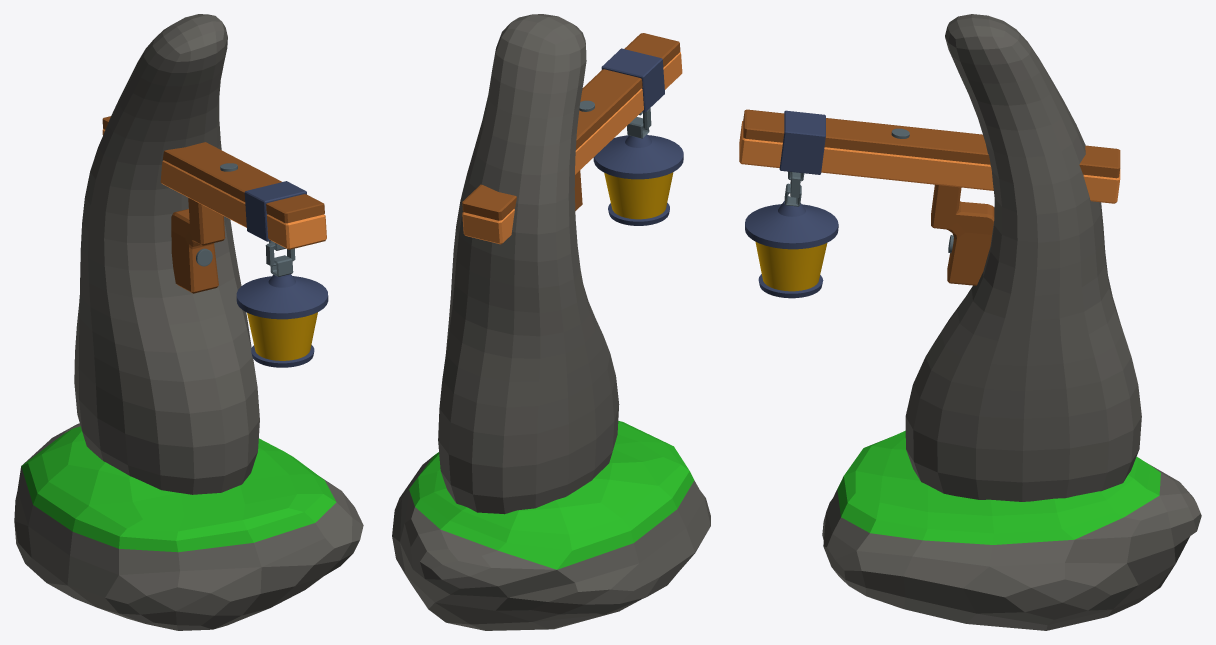
The model's file is StoneLamp3.fbx.
The picture shows the model from 3 angles, left to right: view 1: azimuth 30°, elevation 25°; view 2: azimuth 150°, elevation 25°; view 3: azimuth 270°, elevation 25°; orthographic projection. The views are drawn at different scales.
Parts seen in each view (by area): view 1: Cube.008, Cube.009, Cylinder.002, Cube.002, Cube.001, Cube.003, Cube.004; view 2: Cube.008, Cube.009, Cylinder.002, Cube.002, Cube.001, Cube.004; view 3: Cube.008, Cube.009, Cube.002, Cylinder.002, Cube.001, Cube.003, Cube.004.
Part boxes in pixels (box(x1,y1,x2,y2)): Cube.008: box(74, 14, 259, 494); Cube.009: box(14, 423, 363, 630); Cylinder.002: box(236, 274, 328, 367); Cube.002: box(102, 116, 324, 223); Cube.001: box(102, 129, 326, 249); Cube.003: box(171, 198, 225, 293); Cube.004: box(244, 181, 306, 241); Cube.008: box(438, 14, 619, 514); Cube.009: box(392, 421, 710, 630); Cylinder.002: box(593, 134, 683, 225); Cube.002: box(462, 33, 680, 220); Cube.001: box(462, 52, 682, 244); Cube.004: box(601, 48, 664, 112); Cube.008: box(905, 14, 1141, 501); Cube.009: box(822, 430, 1201, 630); Cube.002: box(743, 109, 1120, 178); Cylinder.002: box(745, 201, 838, 298); Cube.001: box(739, 121, 1120, 203); Cube.003: box(931, 184, 994, 285); Cube.004: box(779, 110, 825, 174).
Bounding box in the file's own units: 286 × 595 × 419.
